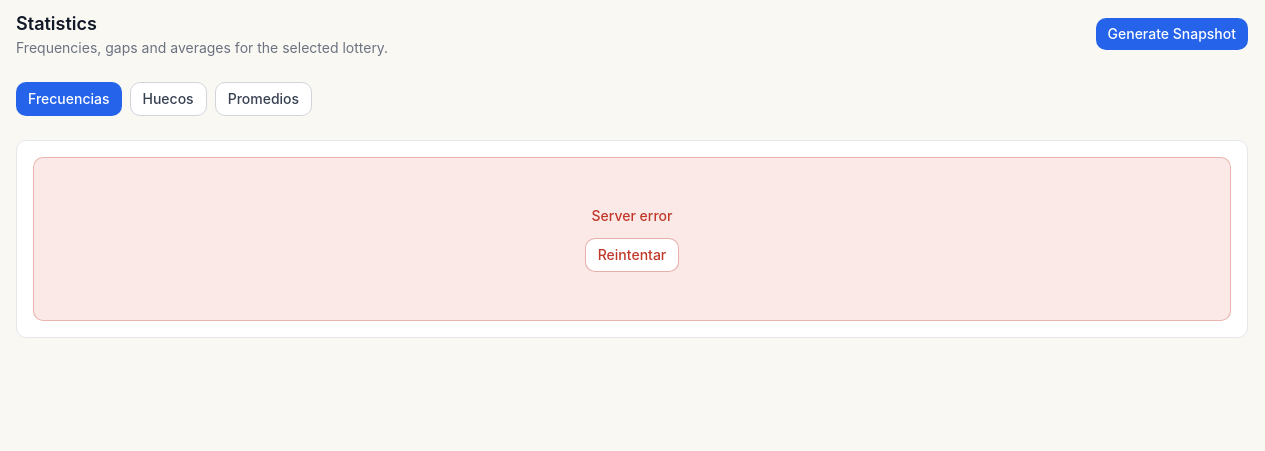
Test case: Statistics › shows an error state with retry and recovers on retry
Check: the message shows "Server error", box [592,207,672,224]
Click the button "Reintentar" at [632, 255], box [585,238,679,272]
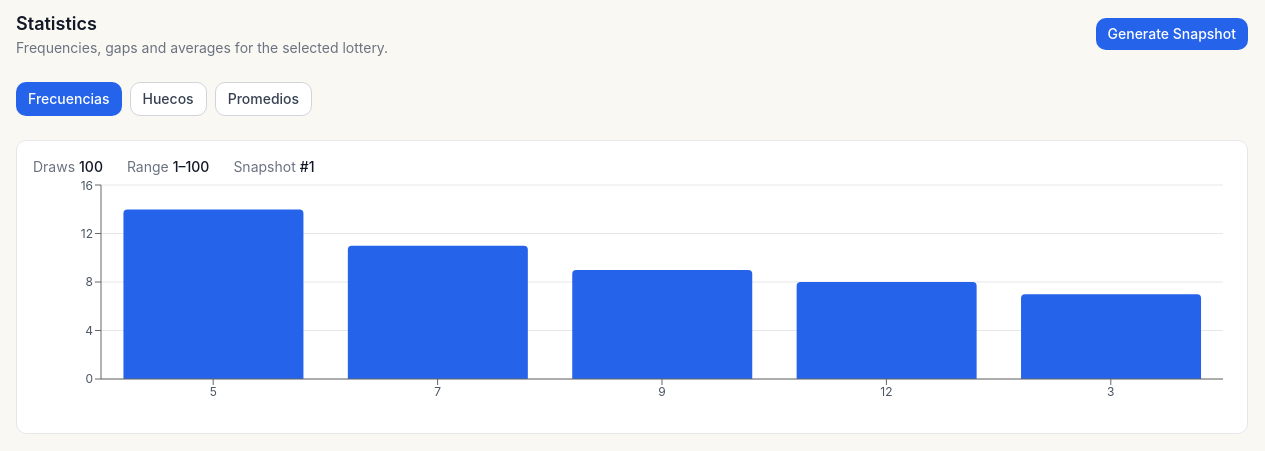
Check: the picture named "frequency distribution per number" is shown, box [33,177,1231,417]
Check: the message "Server error Reintentar" is gone
